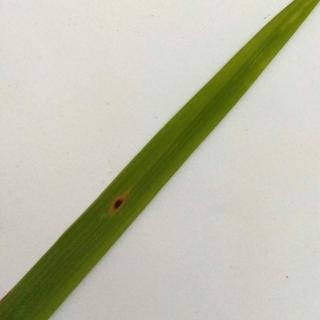bercak-Cokelat: (109, 195, 135, 215)
